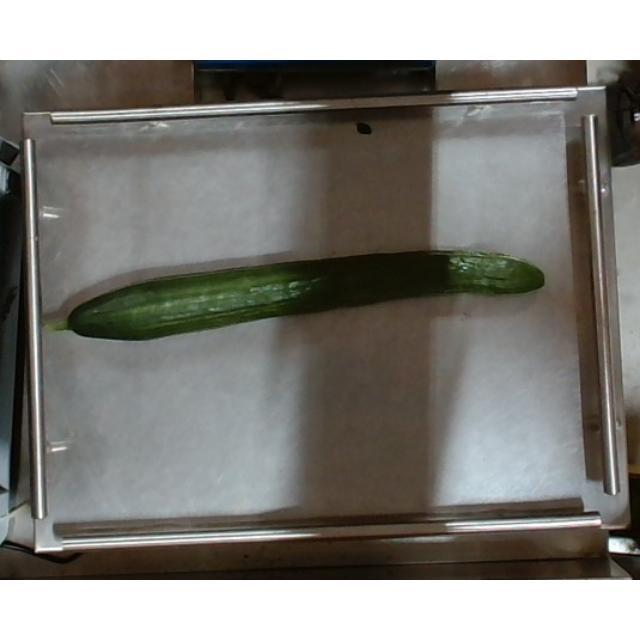cucumber: (54, 246, 546, 340)
